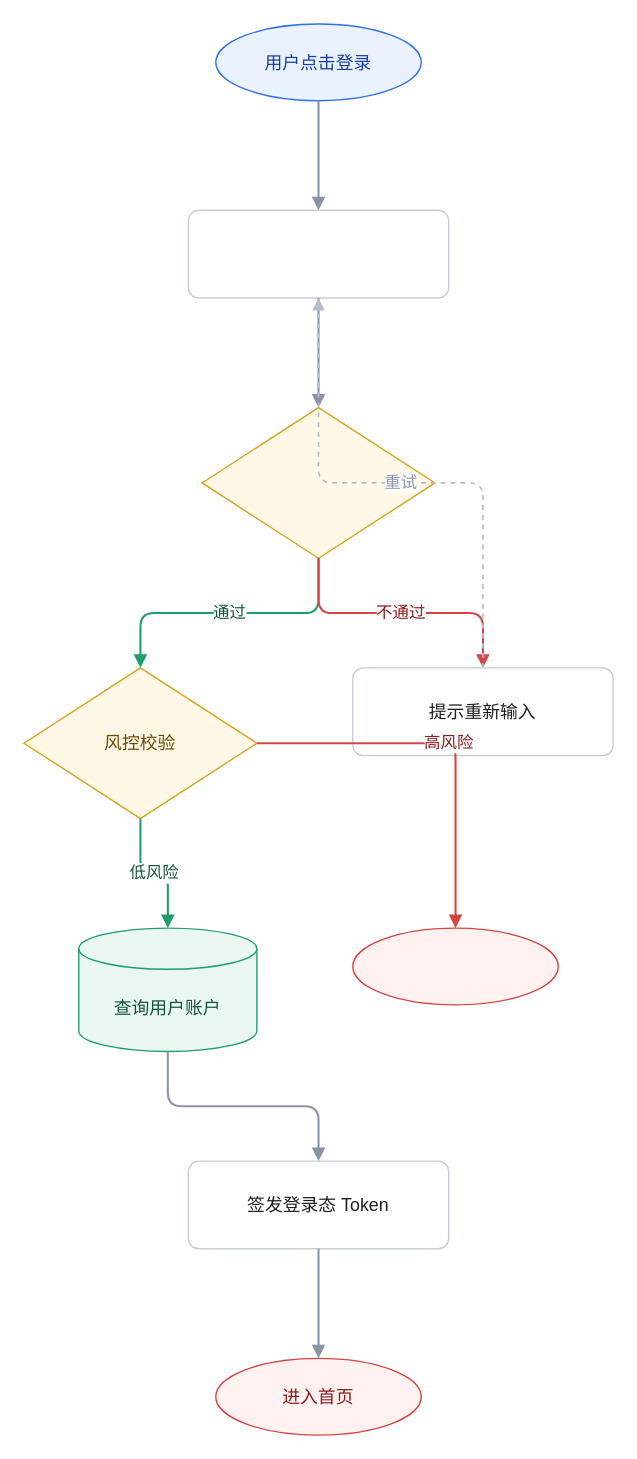
The diagram is 637 pixels wide and 1459 high, and some of its shapes have lost their labels. The shapes that lost their labels are listed below. From the top down, each one's centre as x and y in pixels, then its label:
At (318,253): "输入手机号与验证码".
At (318,482): "校验验证码".
At (454,966): "拦截并提示风险".
